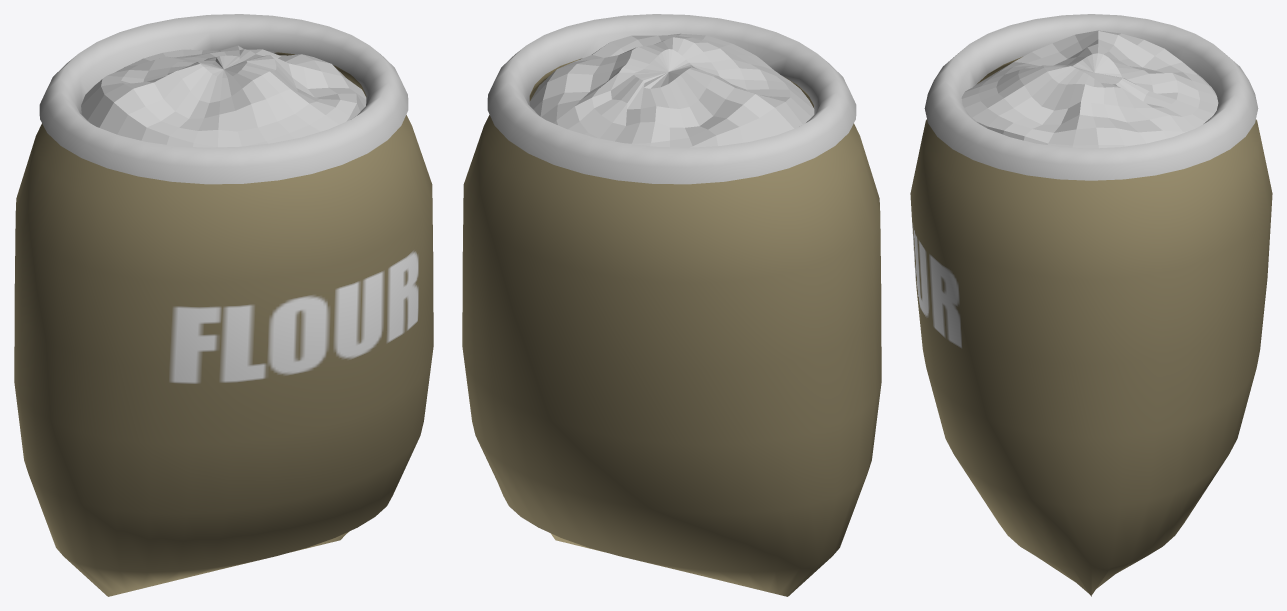
Rendered from flour.fbx.
3 renders of one model, left to right at view 1: azimuth 30°, elevation 25°; view 2: azimuth 150°, elevation 25°; view 3: azimuth 270°, elevation 25°, orthographic. The views are drawn at different scales.
Visible parts, largest first — view 1: Flour Bag; view 2: Flour Bag; view 3: Flour Bag.
Boxes of the visible parts, left/top/right/bottom form: Flour Bag: left=14, top=14, right=433, bottom=596; Flour Bag: left=462, top=14, right=881, bottom=596; Flour Bag: left=910, top=14, right=1272, bottom=596.
Bounding box in the file's own units: 165 × 211 × 144.
